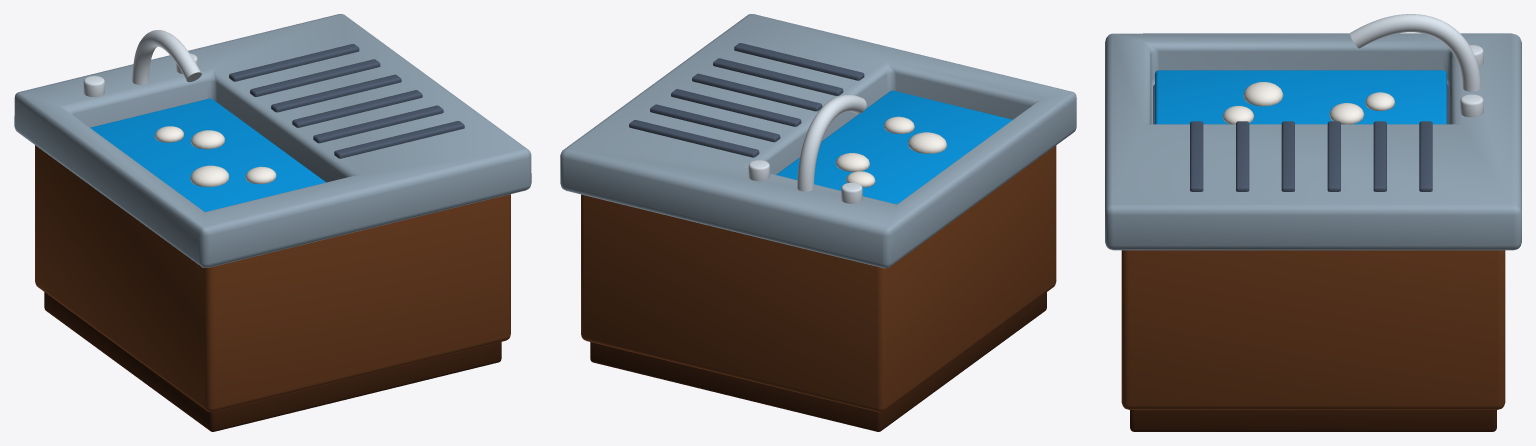
Rendered from kitchenSink.glb.
The picture shows the model from 3 angles, left to right: view 1: azimuth 30°, elevation 25°; view 2: azimuth 150°, elevation 25°; view 3: azimuth 270°, elevation 25°; orthographic projection. The views are drawn at different scales.
Parts seen in each view (by area): view 1: SinkPlinth; view 2: SinkPlinth; view 3: SinkPlinth.
Boxes of the visible parts, left/top/right/bottom form: SinkPlinth: left=14, top=14, right=531, bottom=431; SinkPlinth: left=560, top=14, right=1076, bottom=431; SinkPlinth: left=1105, top=14, right=1521, bottom=431.
Size of the model in its own units: 1 by 0.8184 by 1.
